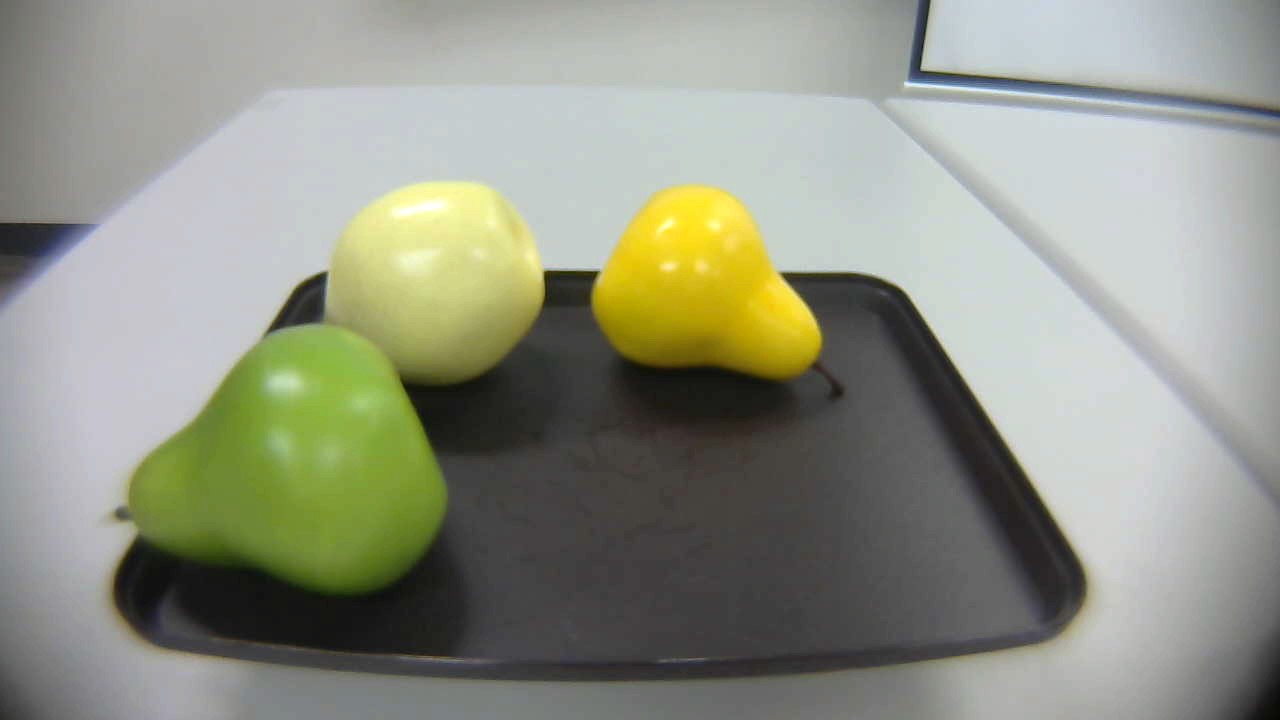green pear: (102, 318, 452, 600)
western pear: (312, 182, 543, 385)
yellow pear: (583, 182, 870, 426)
